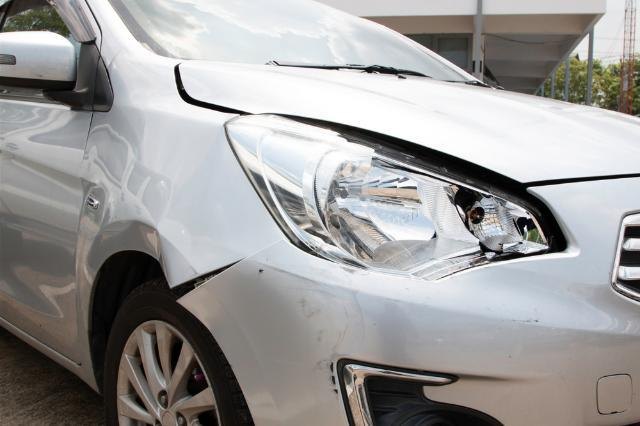dent: (86, 221, 170, 290)
dislocated part: (172, 177, 640, 426)
lamp broken: (225, 114, 569, 280)
scratch: (262, 265, 375, 402)
